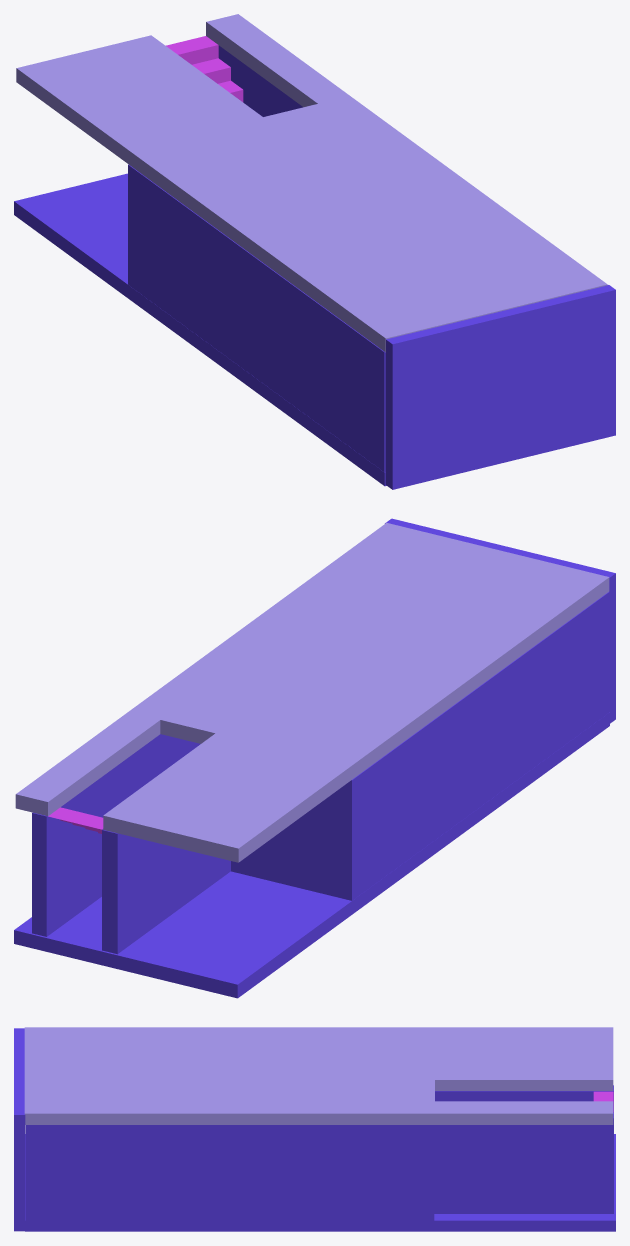
The model's file is myexperience.glb.
The picture shows the model from 3 angles, top to bottom: view 1: azimuth 30°, elevation 25°; view 2: azimuth 150°, elevation 25°; view 3: azimuth 270°, elevation 25°; orthographic projection. The views are drawn at different scales.
Parts seen in each view (by area): view 1: ballBoard.001; view 2: ballBoard.001; view 3: ballBoard.001.
Boxes of the visible parts, box(x1,y1,x2,y2) form: ballBoard.001: box(14, 14, 615, 489); ballBoard.001: box(14, 518, 615, 998); ballBoard.001: box(14, 1027, 615, 1231).
Size of the model in its own units: 6.85 by 4.31 by 19.96.
